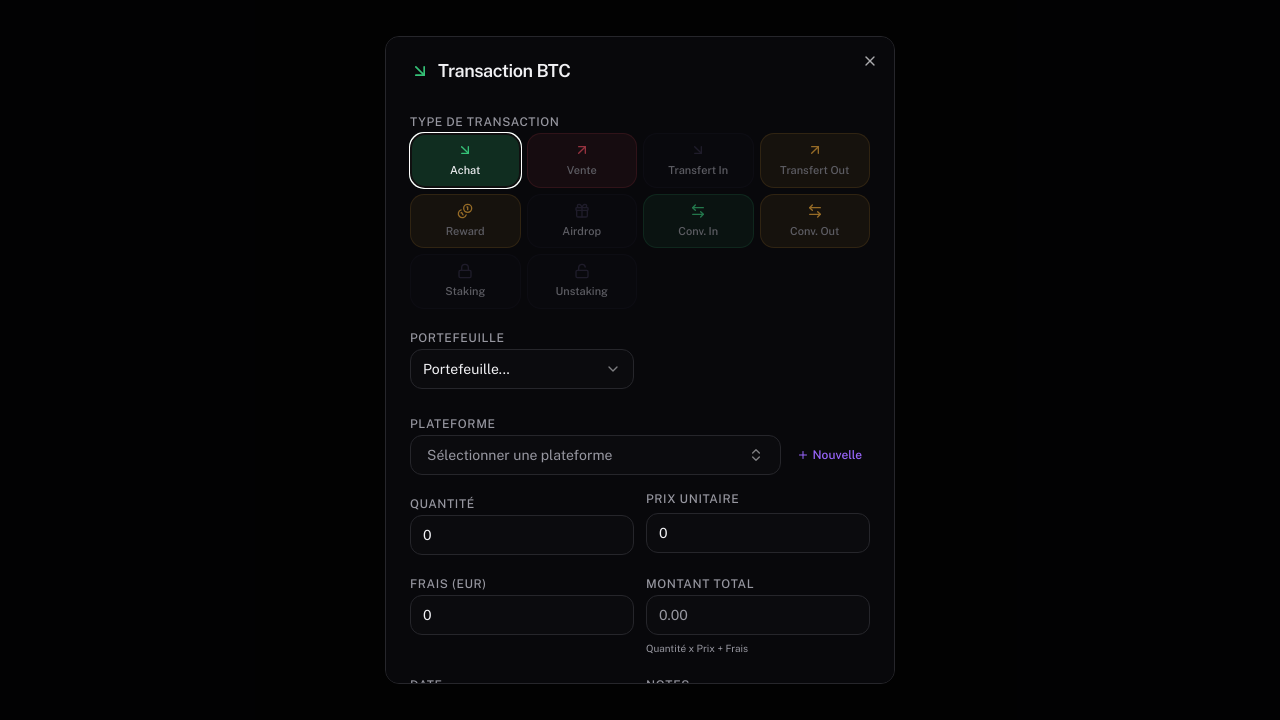
Test case: saisie bidirectionnelle › déduit la quantité du total saisi, frais déduits
This screenshot has width=1280, height=720.
Replace the text in the field labelled "Prix unitaire" with "40000" at point(758, 532), box [646,512,870,552]
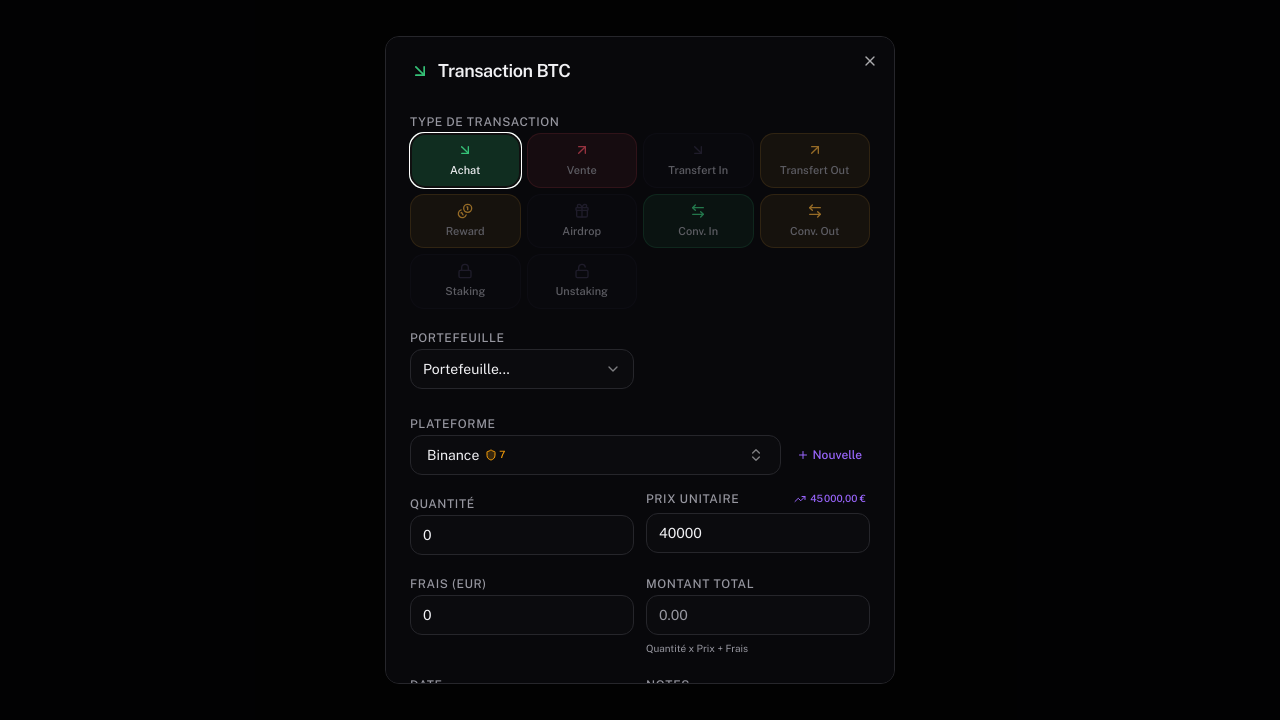
Replace the text in the field labelled "Frais (EUR)" with "20" at point(522, 614), box [410,594,634,634]
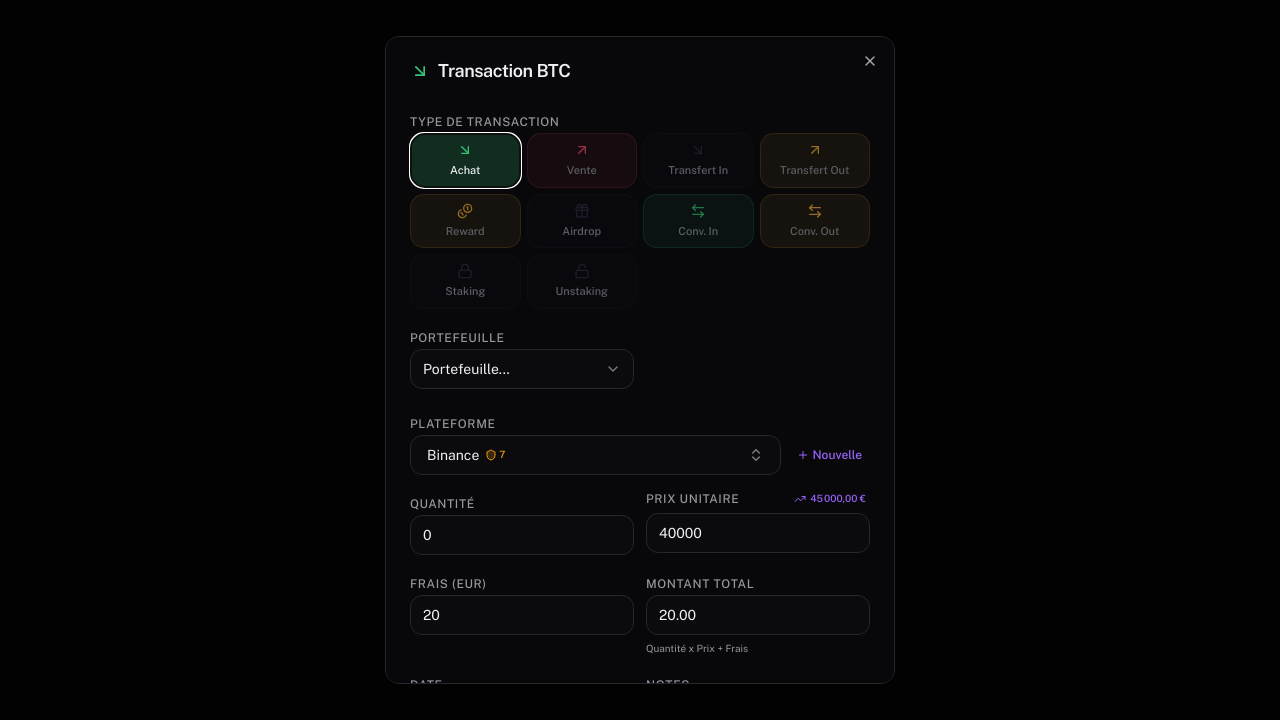
Replace the text in the field labelled "Montant total" with "1000" at point(758, 614), box [646,594,870,634]
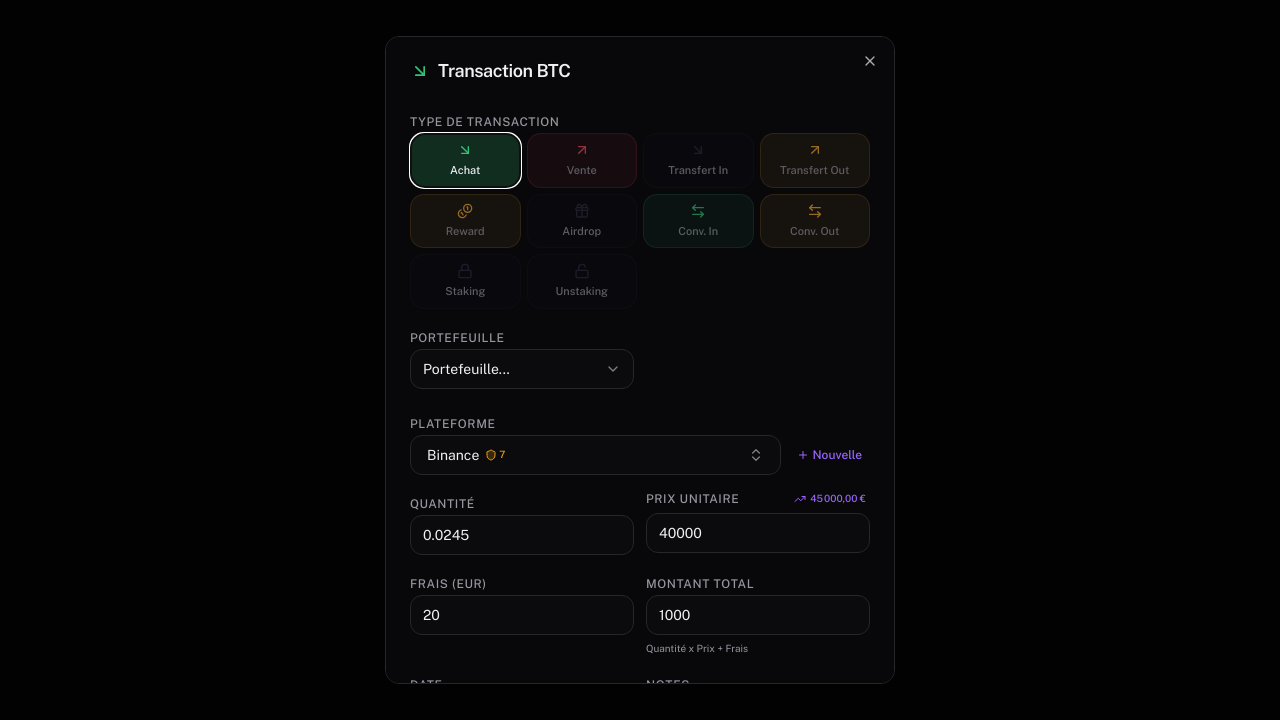
Check: the field labelled "Quantité" holds "0.0245", box [410,514,634,554]
